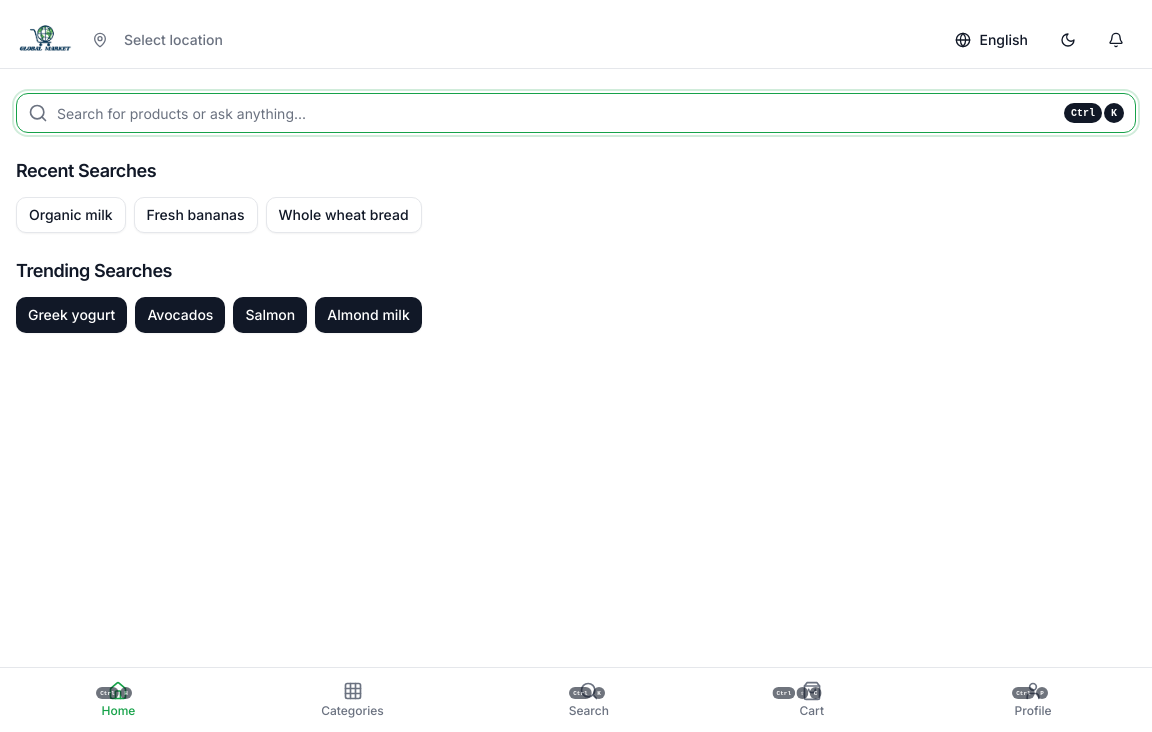
SearchPage › clears search query when X button clicked
The image size is (1152, 732).
In the search field with placeholder "Search for products or ask anything...": (576, 113) [16, 93, 1136, 133], type "test query"
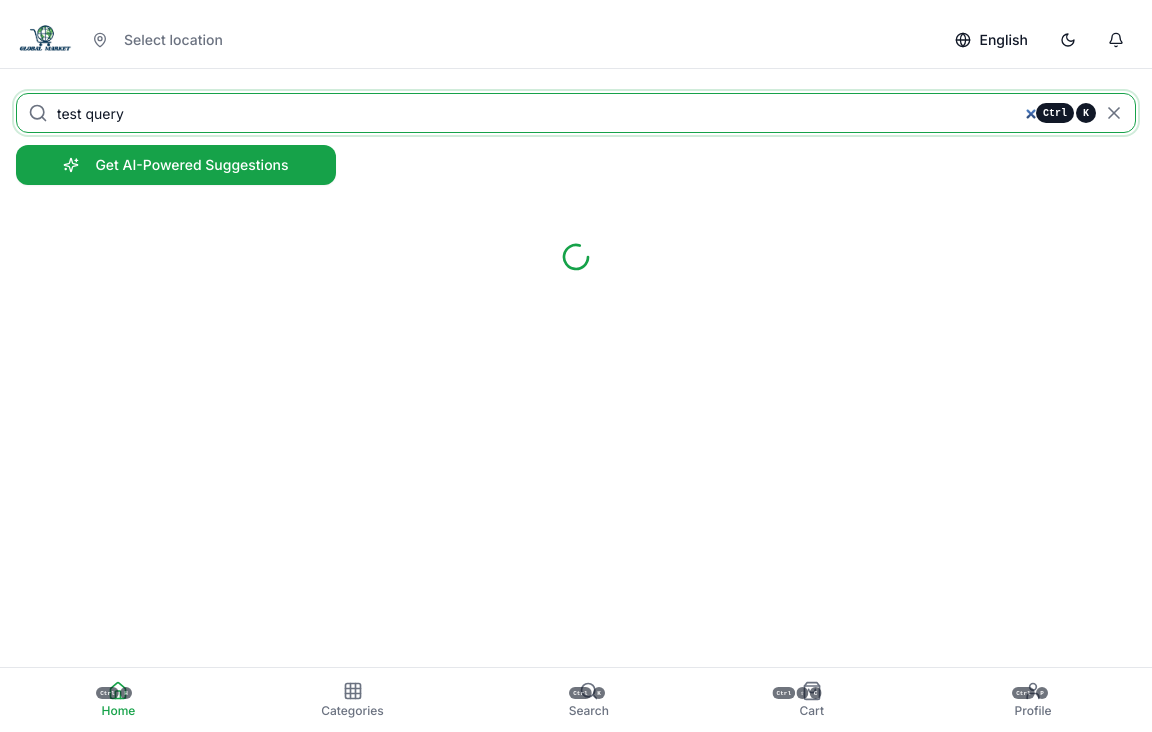
Result: the button with class "lucide-x" is shown
Click the button with class "lucide-x": (1114, 113) [1104, 103, 1124, 123]
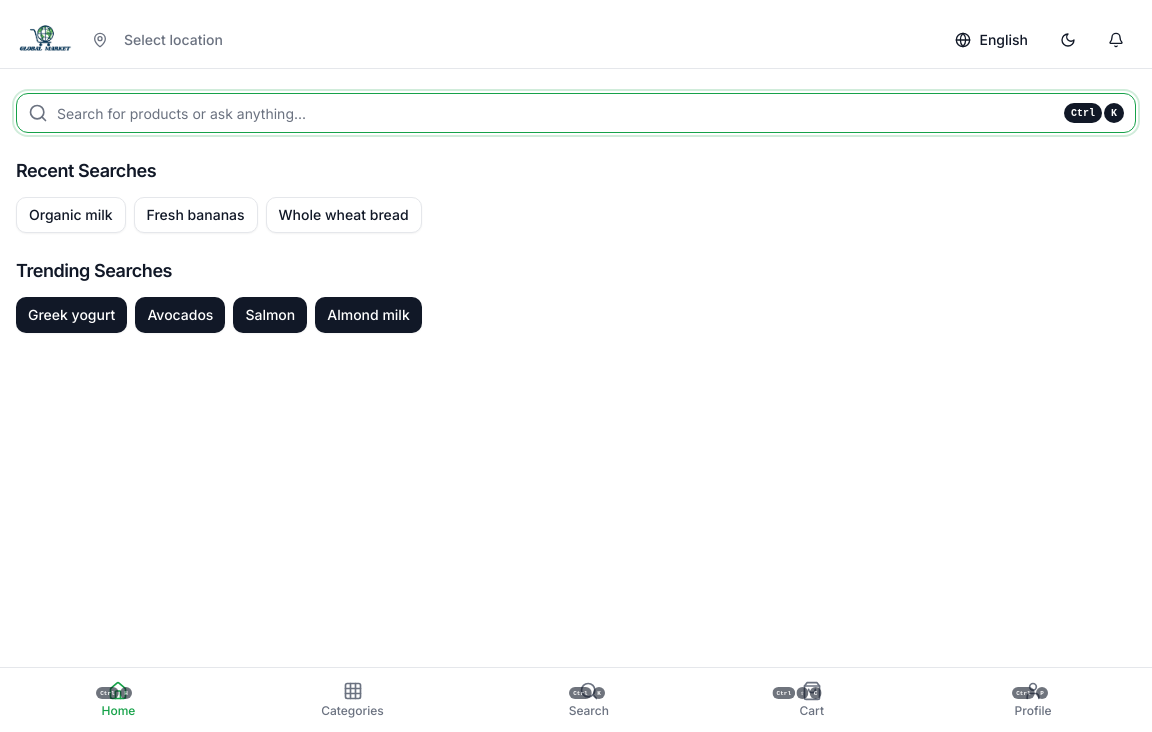
Result: the search field with placeholder "Search for products or ask anything..." is empty at [16, 93, 1136, 133]
